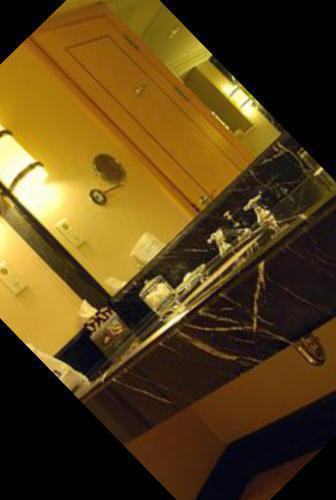Bote de Basura: (147, 188, 285, 324)
